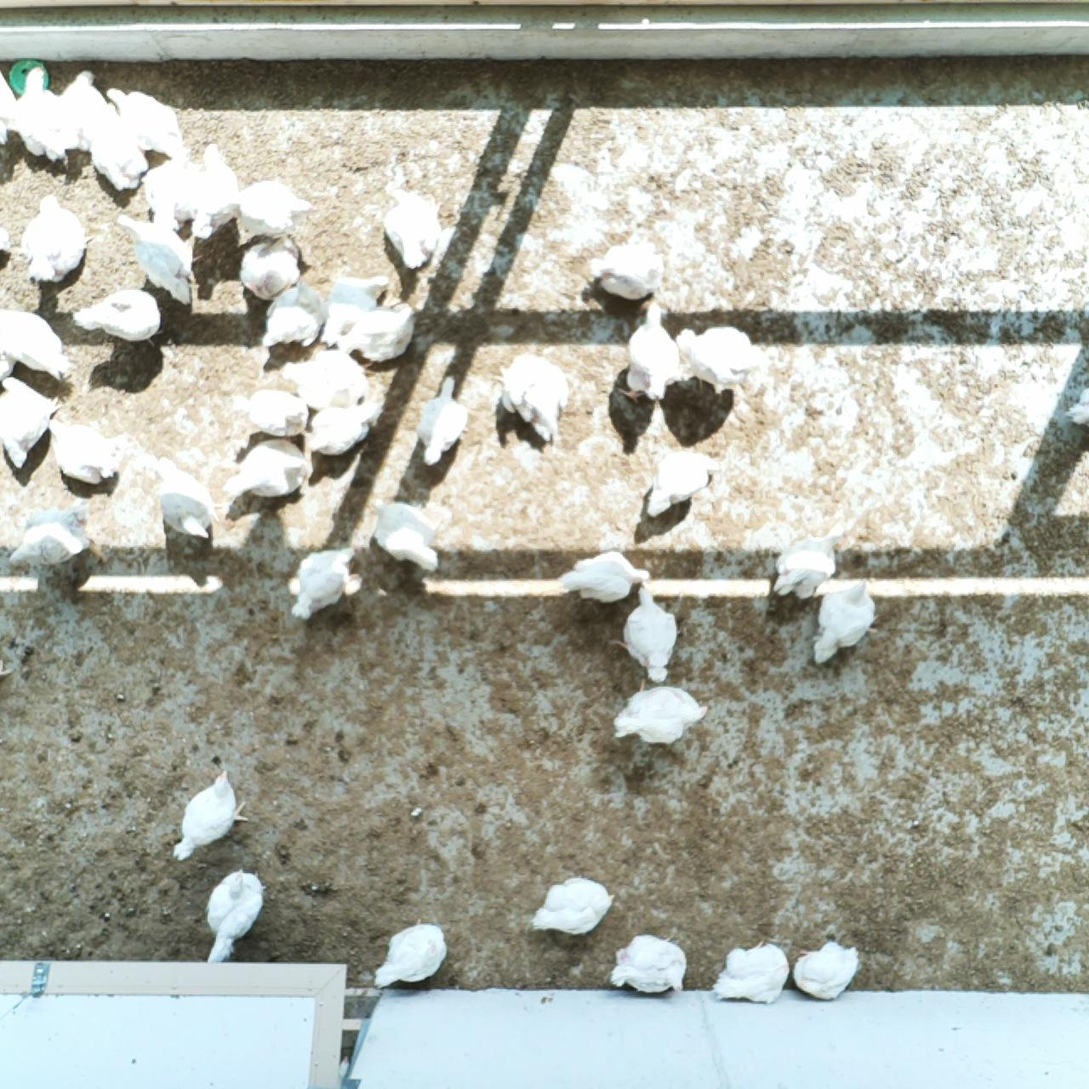chicken: (489, 349, 572, 448), (113, 212, 198, 306), (675, 324, 764, 411), (171, 767, 248, 864), (18, 192, 94, 288), (615, 299, 683, 406), (613, 577, 678, 683), (612, 677, 709, 748), (365, 916, 454, 992), (810, 577, 885, 666), (769, 520, 851, 600), (201, 866, 265, 967), (71, 287, 167, 352), (0, 374, 63, 473), (225, 177, 316, 245), (279, 346, 371, 413), (44, 415, 129, 487), (151, 454, 221, 541), (6, 501, 94, 570), (710, 936, 791, 1010), (106, 84, 187, 158), (221, 435, 310, 502), (286, 545, 362, 623), (368, 493, 443, 572), (641, 447, 723, 519), (532, 874, 619, 939), (0, 308, 76, 382), (336, 296, 419, 363), (190, 141, 244, 243), (87, 107, 151, 193), (415, 373, 472, 469), (381, 183, 442, 272), (257, 277, 328, 353), (320, 274, 391, 348), (558, 549, 652, 604), (610, 933, 690, 997), (138, 154, 202, 230), (306, 399, 383, 460), (594, 237, 667, 301), (236, 231, 302, 301), (791, 939, 863, 1002), (56, 69, 109, 152), (230, 386, 311, 439), (12, 65, 58, 157)
